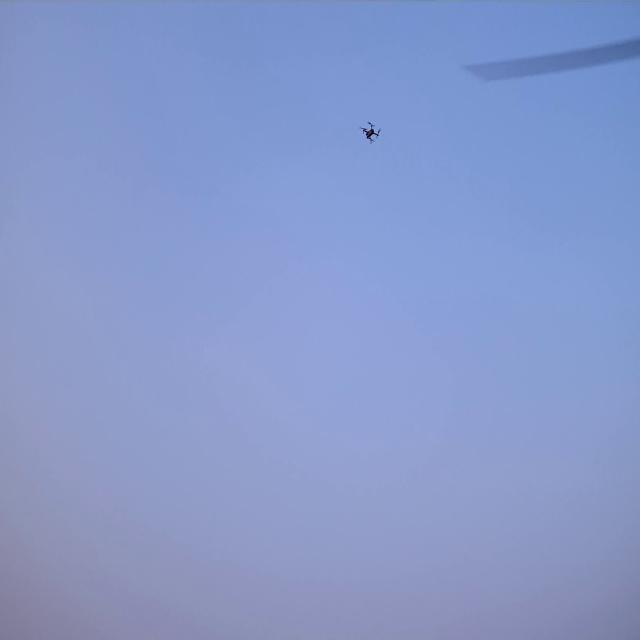UAV: (363, 123, 379, 143)
